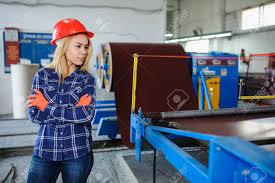Person_wearing_helmet: (47, 14, 96, 51)
